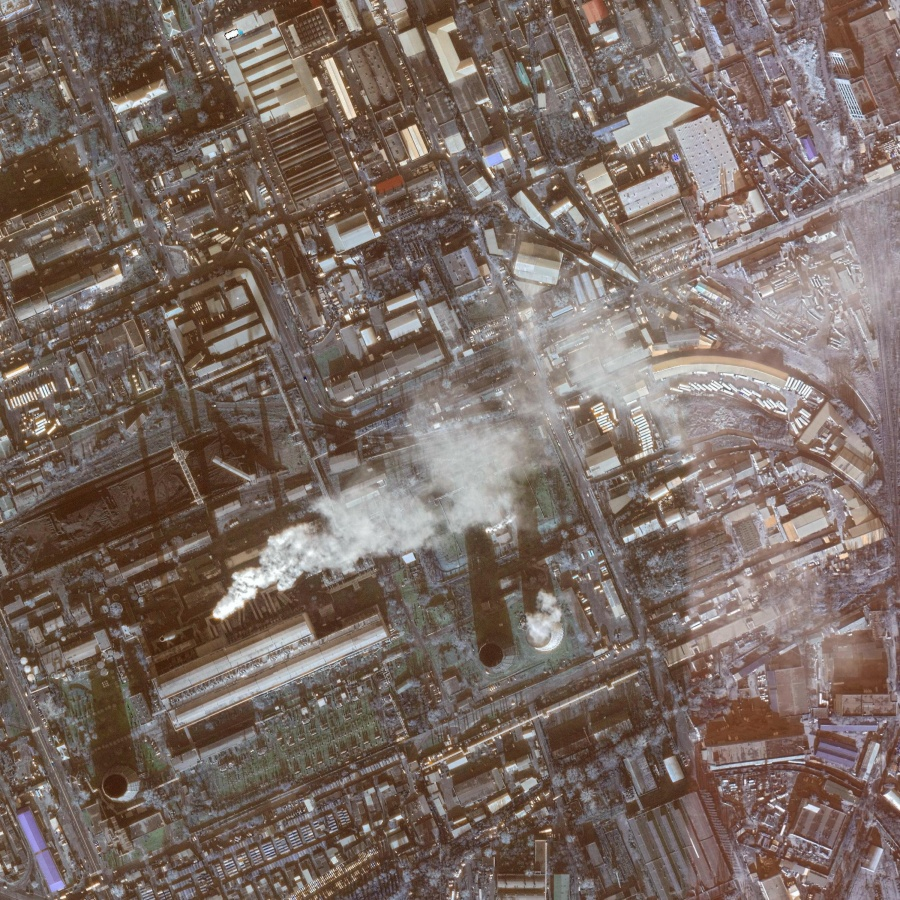PowerPlant: (73, 386, 698, 812)
